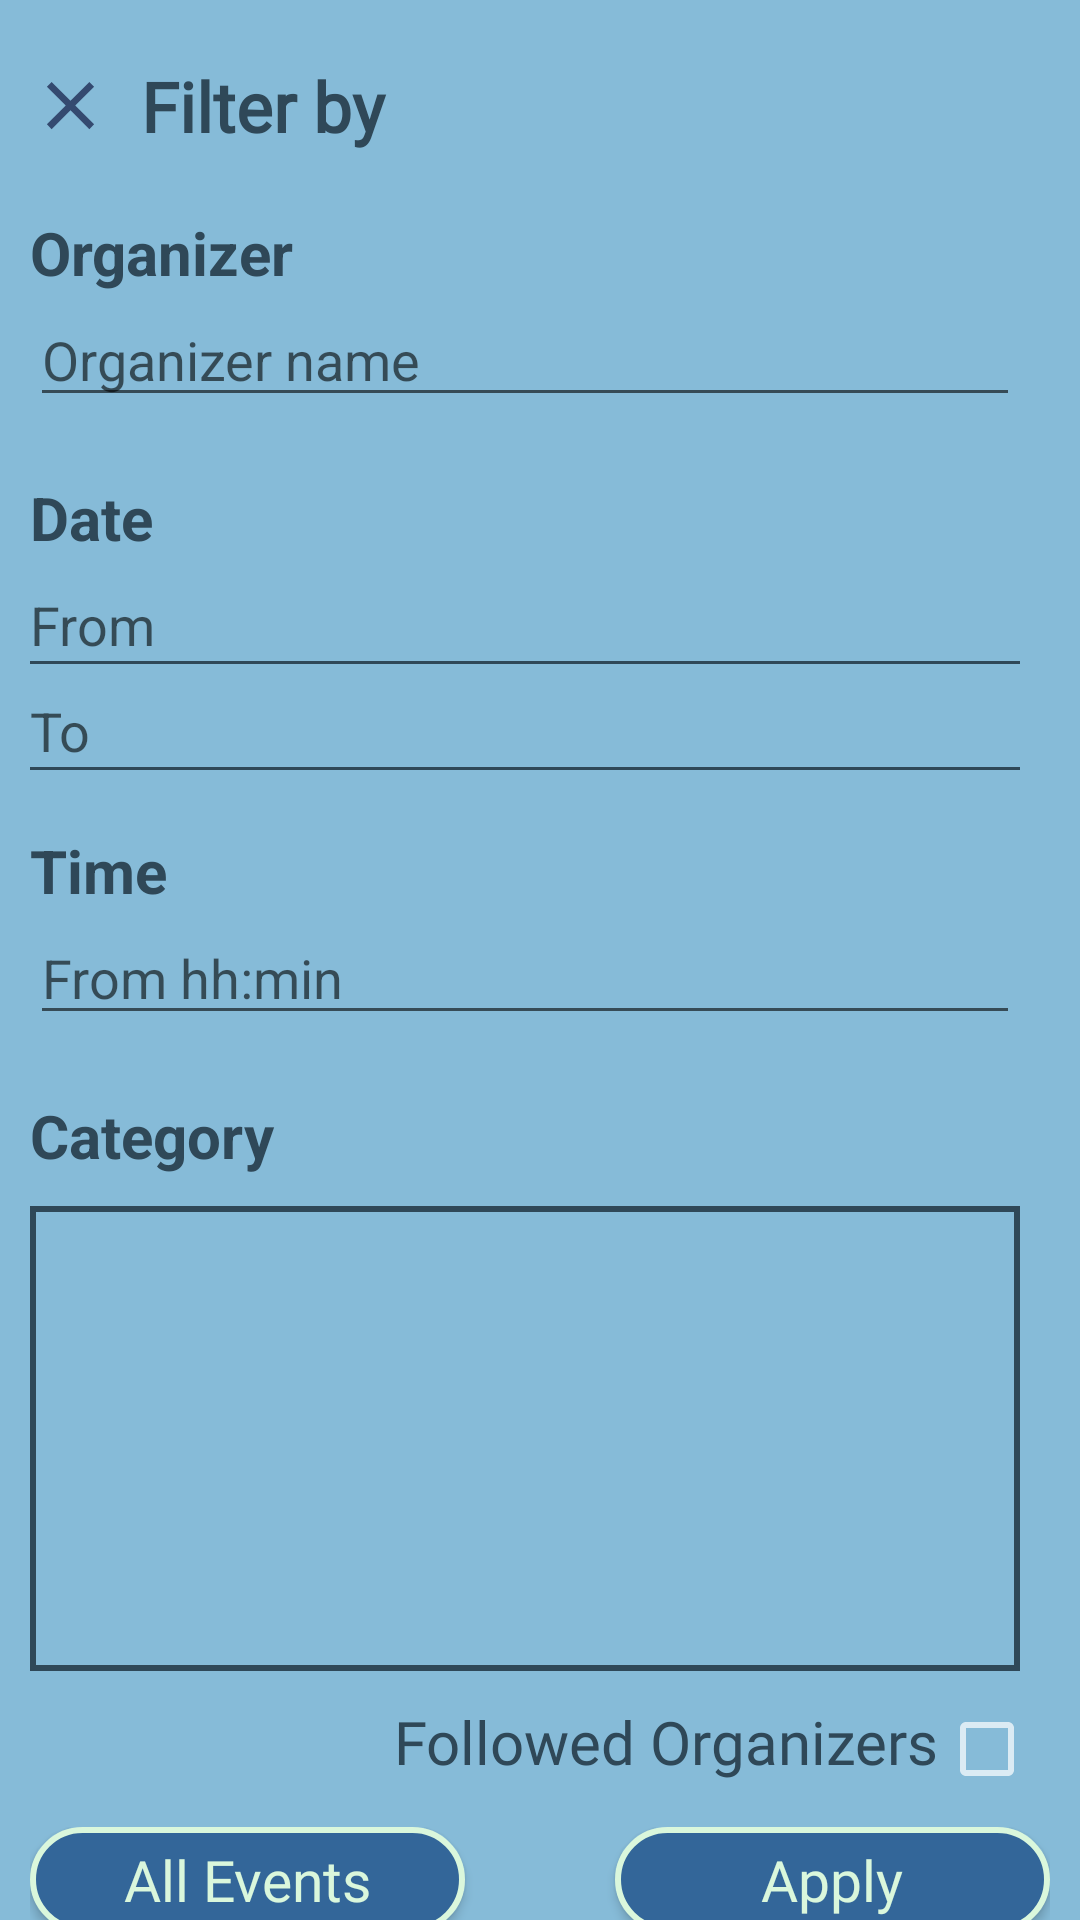

Icon bounding boxes for this 1080 × 1920 phone screenshot, format [x1, y1, x2, y2]:
close view: [47, 82, 94, 129]
